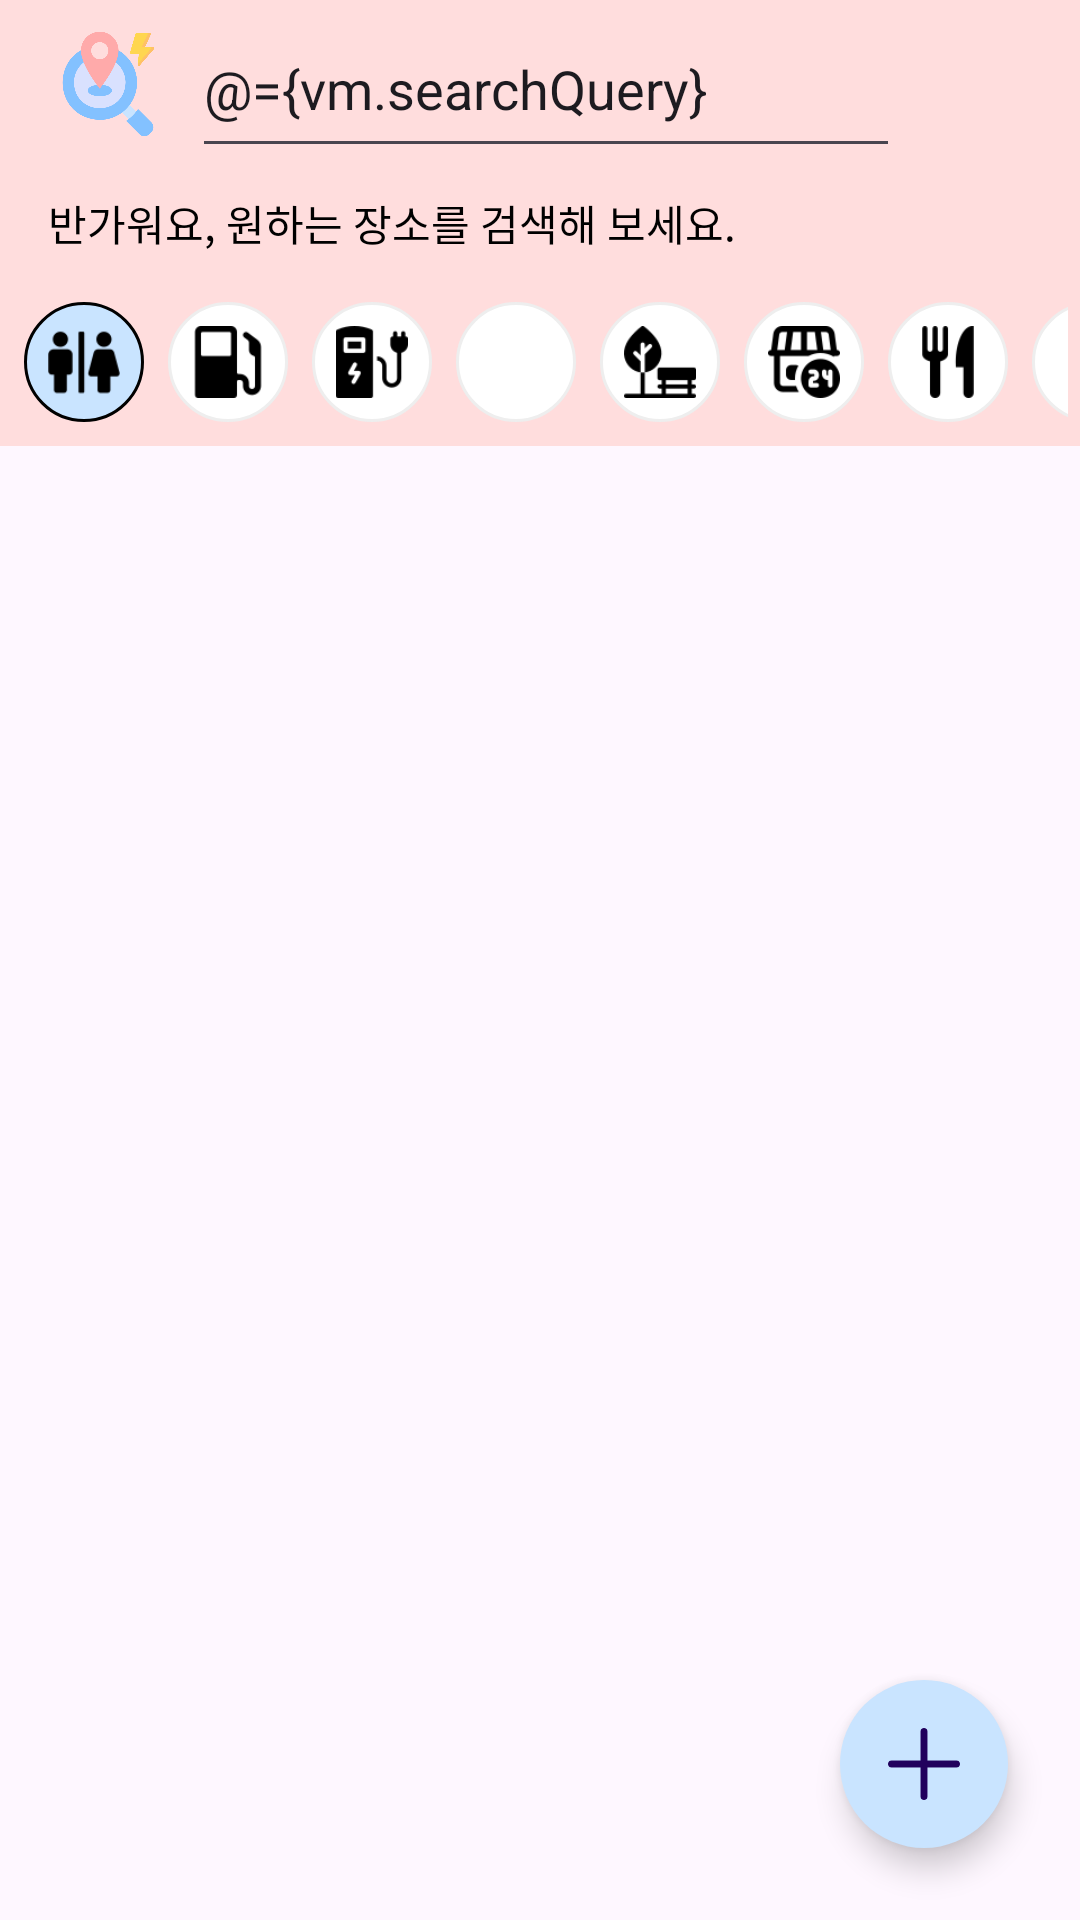

Locate icon controls on the screen. Image size 1080w x 1920h, boxes as (x1, y1, x2, y2).
add: (840, 1680, 1008, 1848)
convenient: (747, 305, 861, 419)
gas: (171, 305, 285, 419)
park: (603, 305, 717, 419)
restaurant: (891, 305, 1005, 419)
toilet: (24, 302, 144, 422)
